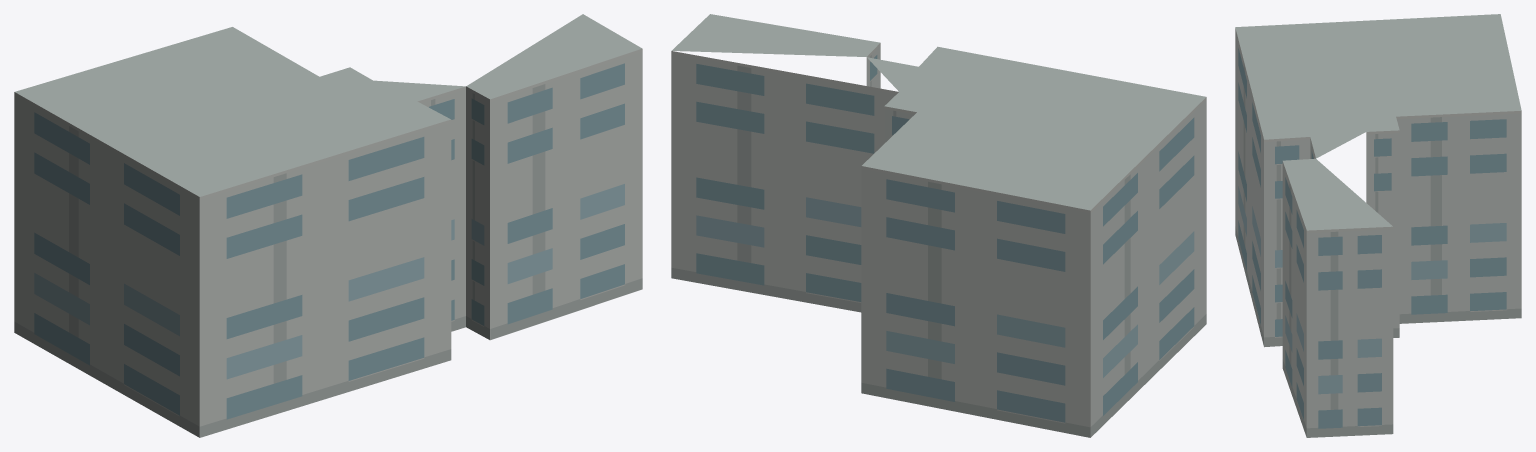
File: survey-upis-32485208.glb
3 renders of one model, left to right at view 1: azimuth 30°, elevation 25°; view 2: azimuth 150°, elevation 25°; view 3: azimuth 270°, elevation 25°, orthographic. The views are drawn at different scales.
Parts seen in each view (by area): view 1: survey-upis-32485208.tmp; view 2: survey-upis-32485208.tmp; view 3: survey-upis-32485208.tmp.
Part boxes in pixels (x1,y1,x2,y2): survey-upis-32485208.tmp: (14,14,642,437); survey-upis-32485208.tmp: (671,14,1206,437); survey-upis-32485208.tmp: (1235,14,1521,437).
Bounding box in the file's own units: 44.69 × 19.95 × 24.99.
